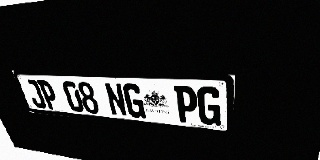0: (61, 81, 85, 113)
8: (76, 81, 100, 114)
G: (197, 86, 221, 126), (122, 83, 146, 119)
J: (24, 79, 47, 109)
N: (104, 83, 128, 117)
P: (174, 85, 198, 124), (37, 80, 60, 110)
